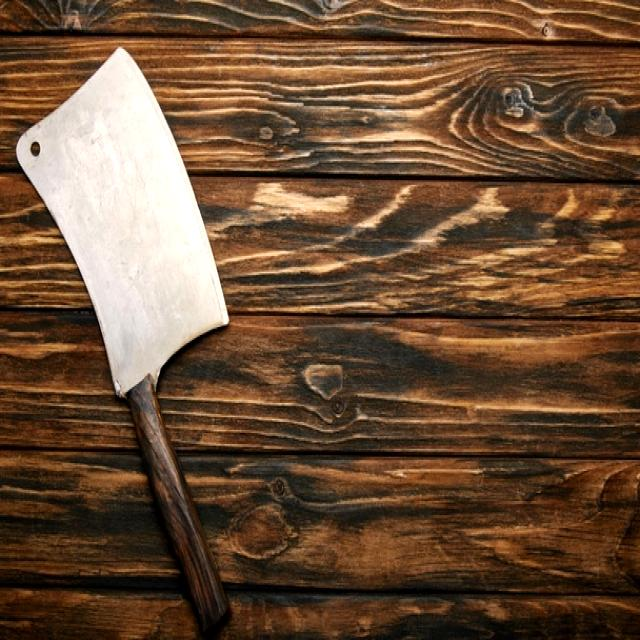cleaver: (18, 53, 234, 630)
